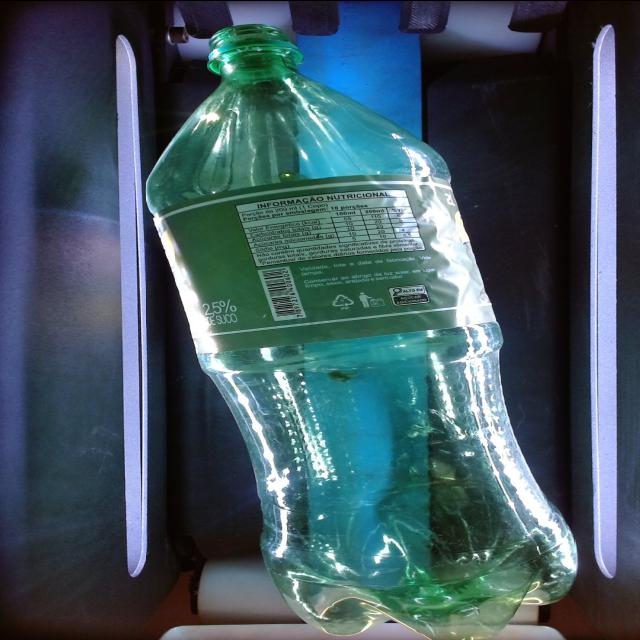bottle: (146, 24, 575, 640)
